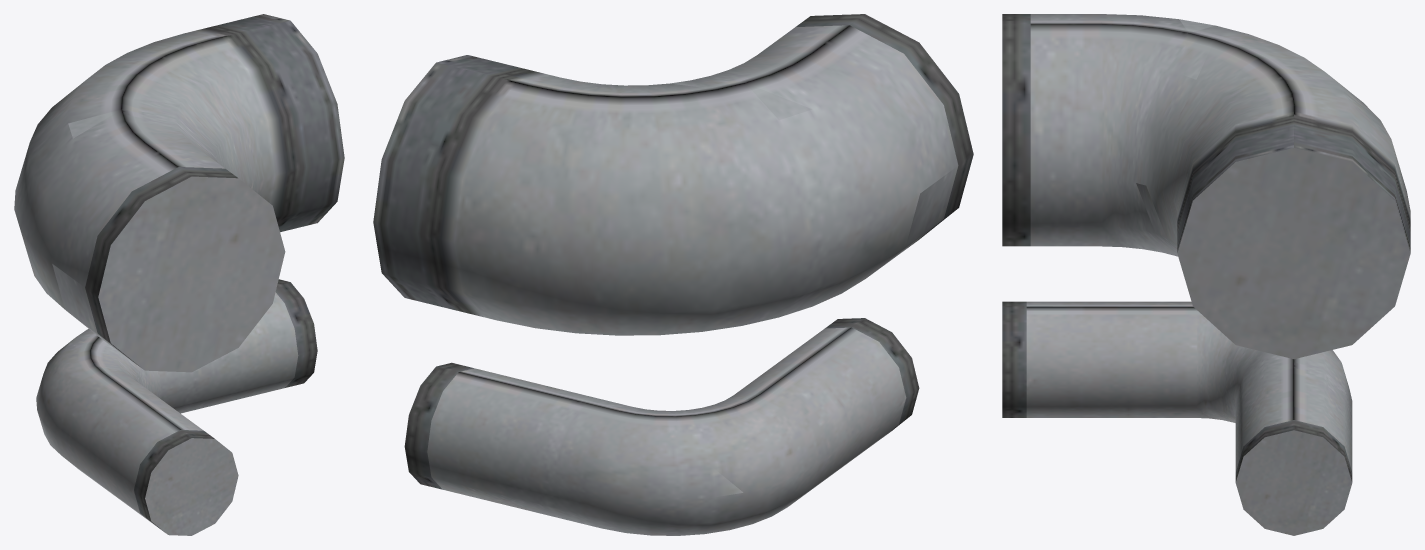
The model's file is Pipe_Bend_01Pipe_End_01.FBX.
3 renders of one model, left to right at view 1: azimuth 30°, elevation 25°; view 2: azimuth 150°, elevation 25°; view 3: azimuth 270°, elevation 25°, orthographic. The views are drawn at different scales.
Visible parts, largest first — view 1: Pipe_Bend_01Pipe_End_01; view 2: Pipe_Bend_01Pipe_End_01; view 3: Pipe_Bend_01Pipe_End_01.
Part boxes in pixels (<box>): Pipe_Bend_01Pipe_End_01: <box>14,14,344,535</box>; Pipe_Bend_01Pipe_End_01: <box>373,14,973,535</box>; Pipe_Bend_01Pipe_End_01: <box>1002,14,1410,535</box>.
Bounding box in the file's own units: 0.7 × 0.7342 × 0.7.
